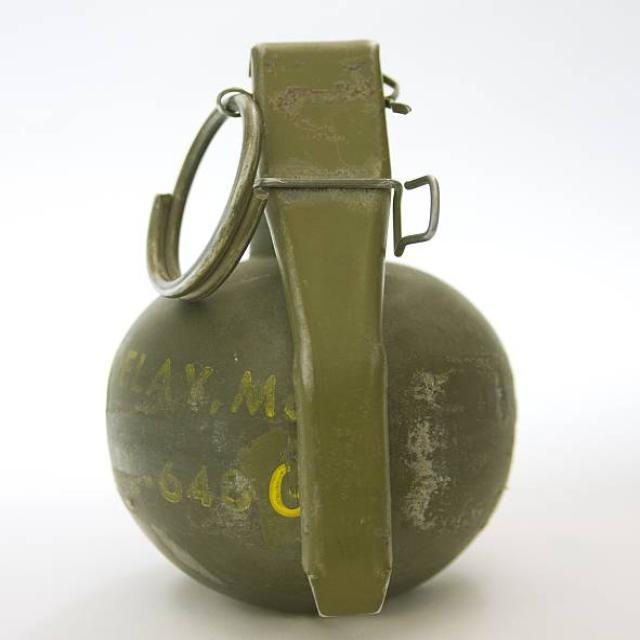grenade: (99, 26, 527, 631)
